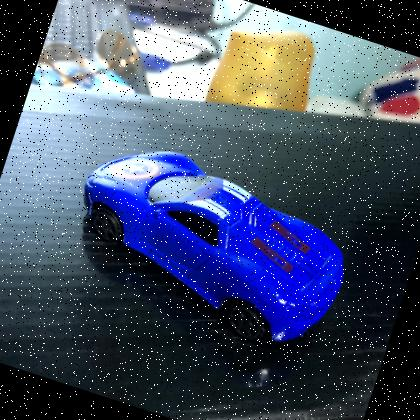Car: (47, 120, 374, 366)
